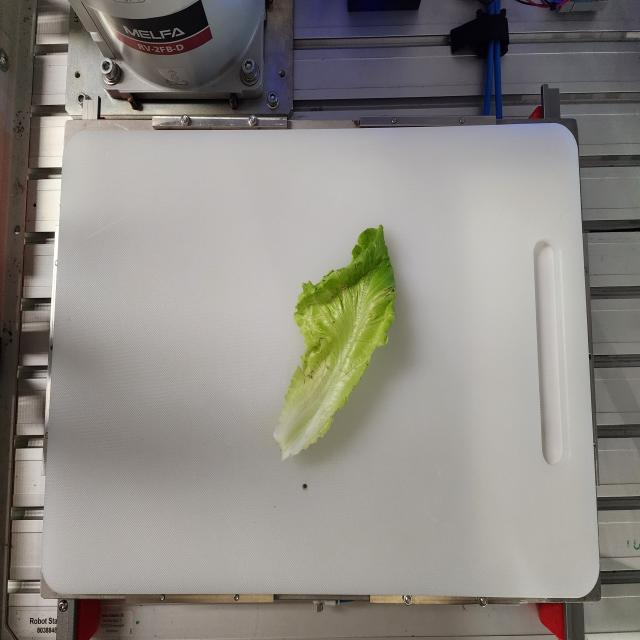lettuce: (273, 223, 397, 462)
